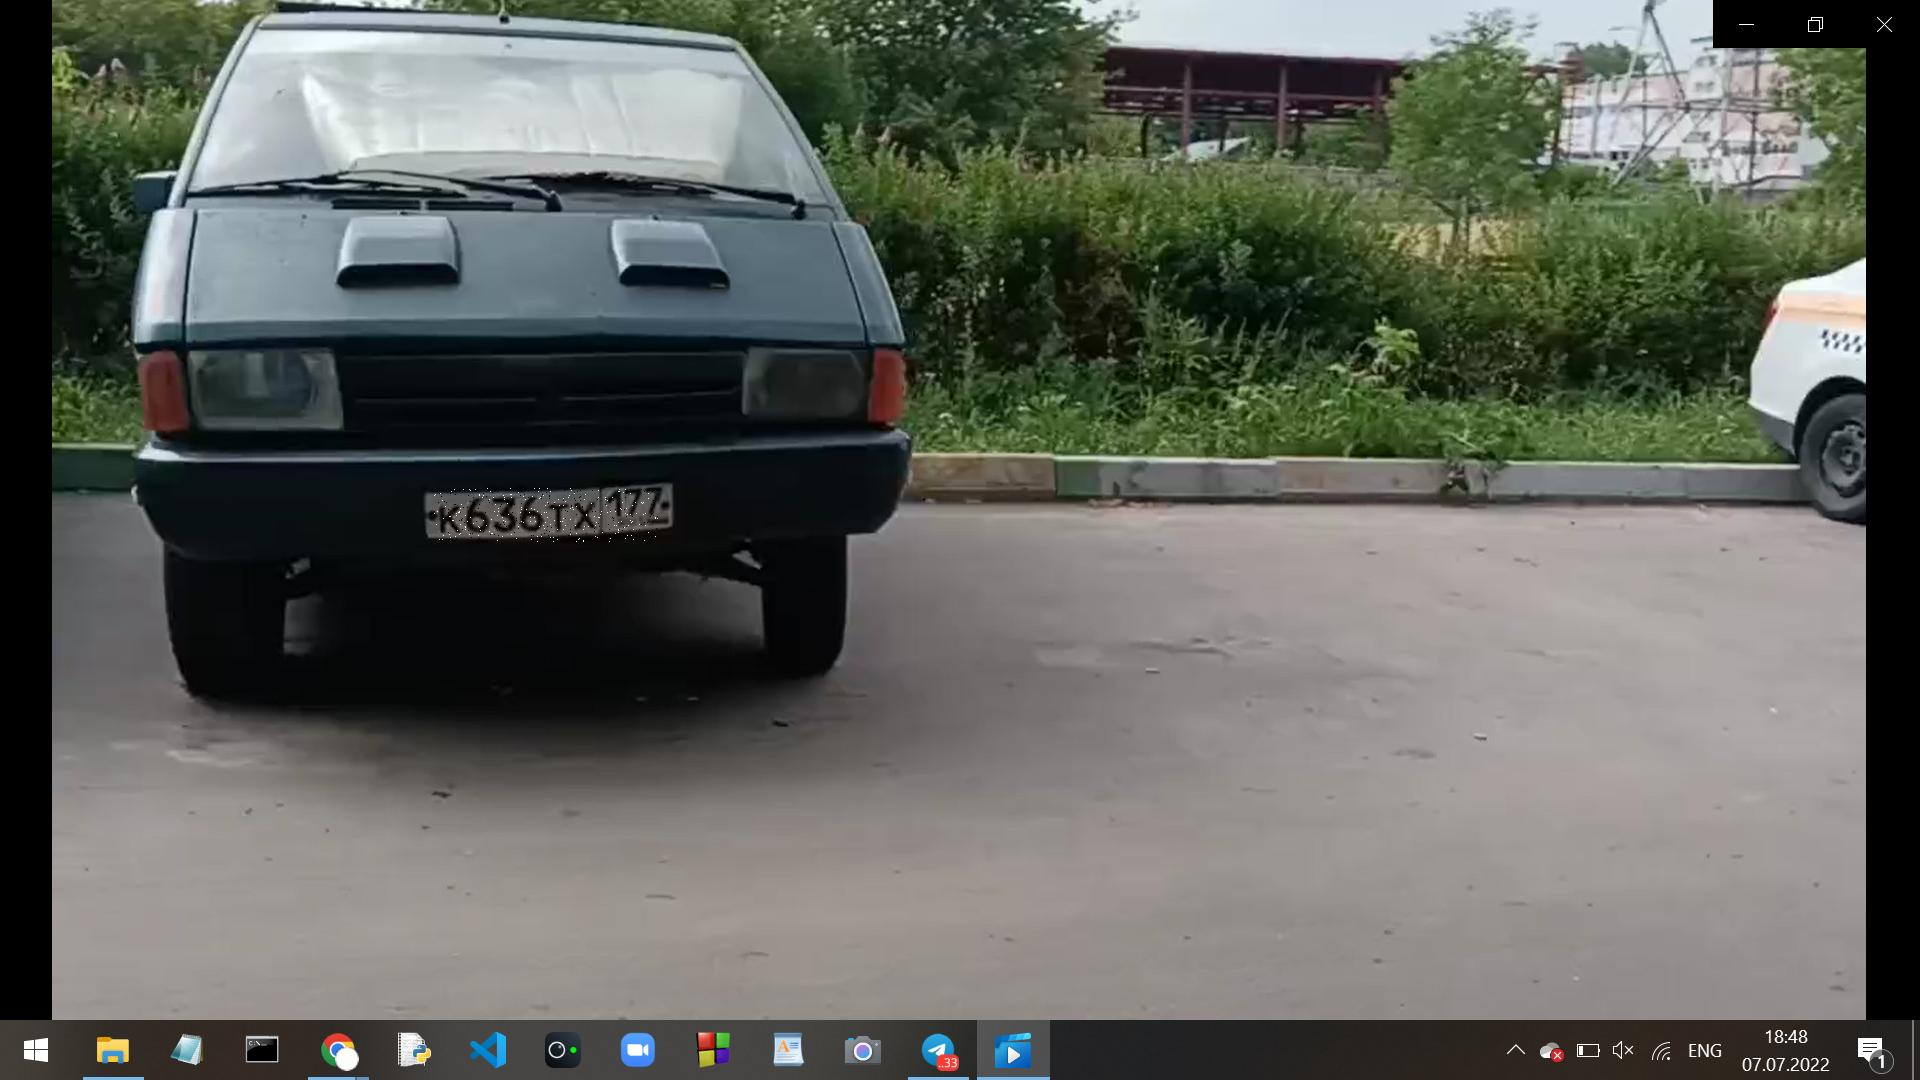plate: (436, 490, 660, 544)
